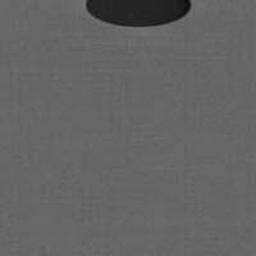Punching: (84, 0, 191, 29)
